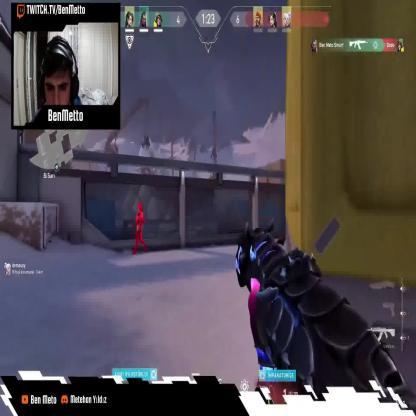enemy: (132, 203, 148, 256)
enemy_head: (138, 203, 142, 213)
